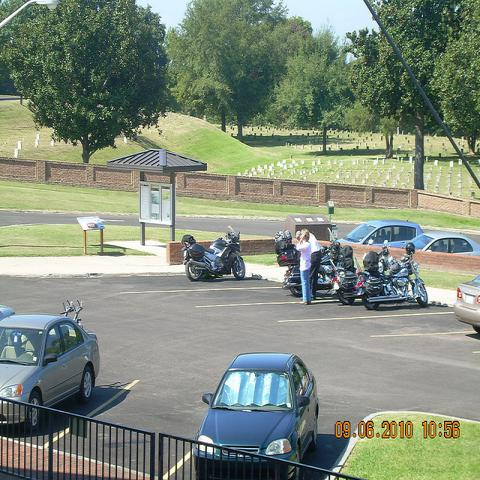car: (193, 353, 320, 479), (1, 310, 103, 427), (403, 228, 479, 260), (338, 219, 423, 247), (454, 274, 479, 333)
motorcycle: (274, 229, 345, 298), (181, 230, 245, 282), (364, 260, 429, 310), (330, 264, 374, 306)
